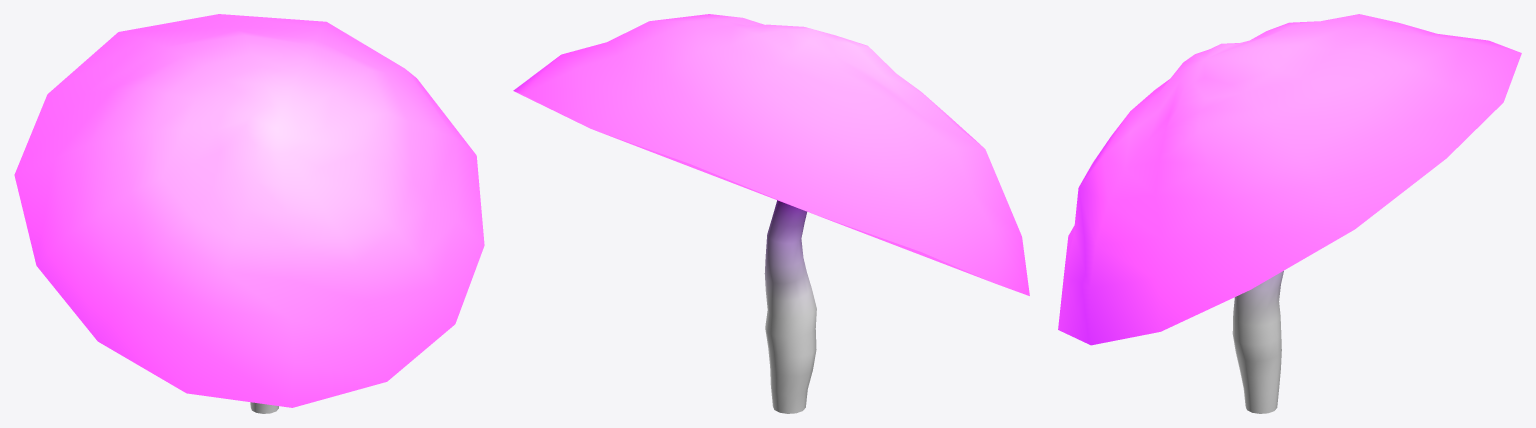
Rendered from mushroom_6.glb.
3 renders of one model, left to right at view 1: azimuth 30°, elevation 25°; view 2: azimuth 150°, elevation 25°; view 3: azimuth 270°, elevation 25°, orthographic. The views are drawn at different scales.
Parts seen in each view (by area): view 1: geo1; view 2: geo1; view 3: geo1.
Part boxes in pixels (x1,y1,x2,y2): geo1: (14, 14, 484, 413); geo1: (513, 14, 1029, 413); geo1: (1058, 14, 1521, 413).
Bounding box in the file's own units: 0.3682 × 0.2838 × 0.3201.
